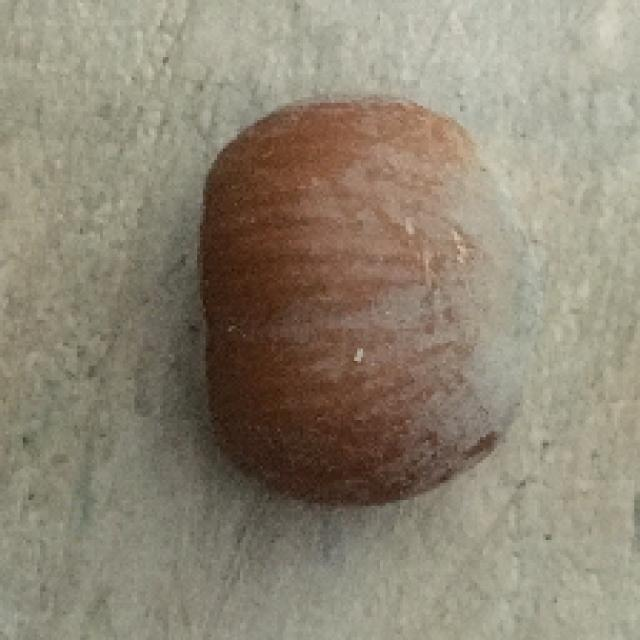qualityHazelnut: (179, 87, 538, 523)
